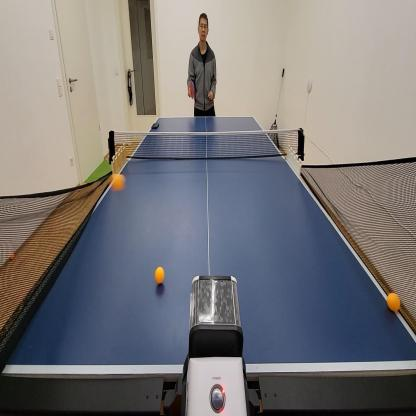Ball: (110, 173, 126, 190), (388, 292, 400, 312), (155, 267, 164, 283), (9, 250, 13, 260)
